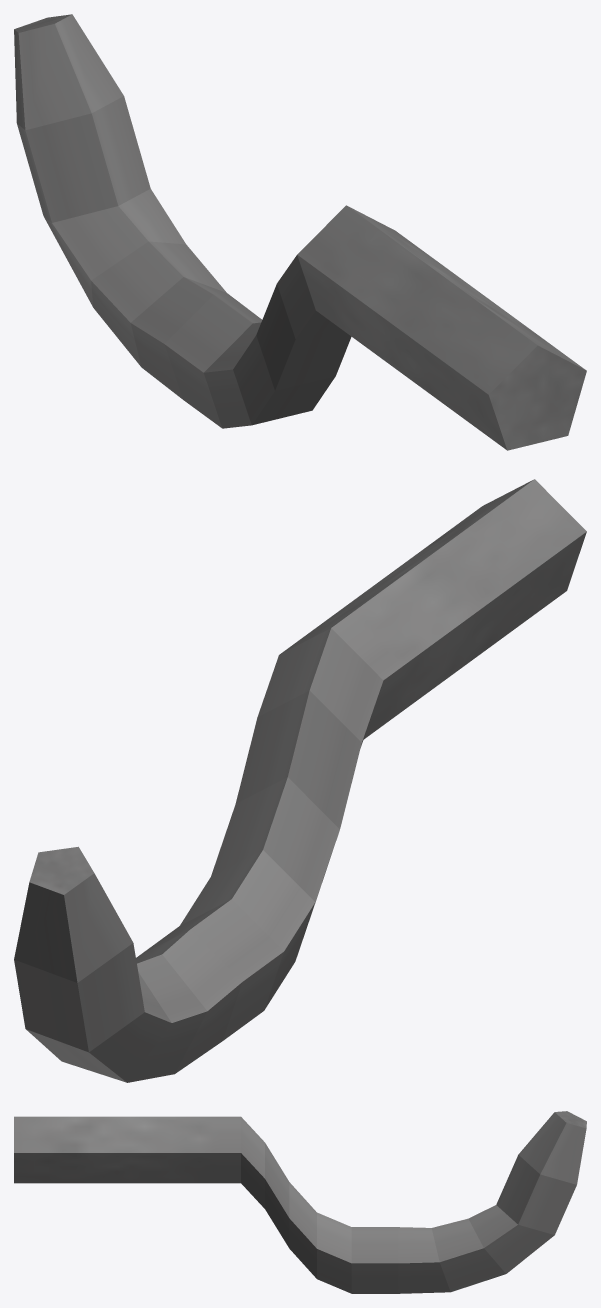
File: hook.fbx
3 renders of one model, top to bottom at view 1: azimuth 30°, elevation 25°; view 2: azimuth 150°, elevation 25°; view 3: azimuth 270°, elevation 25°, orthographic. The views are drawn at different scales.
Parts seen in each view (by area): view 1: hook; view 2: hook; view 3: hook.
Boxes of the visible parts, left/top/right/bottom form: hook: left=14, top=14, right=586, bottom=450; hook: left=14, top=479, right=586, bottom=1082; hook: left=14, top=1111, right=586, bottom=1293.
Bounding box in the file's own units: 0.0119 × 0.0278 × 0.0856.
